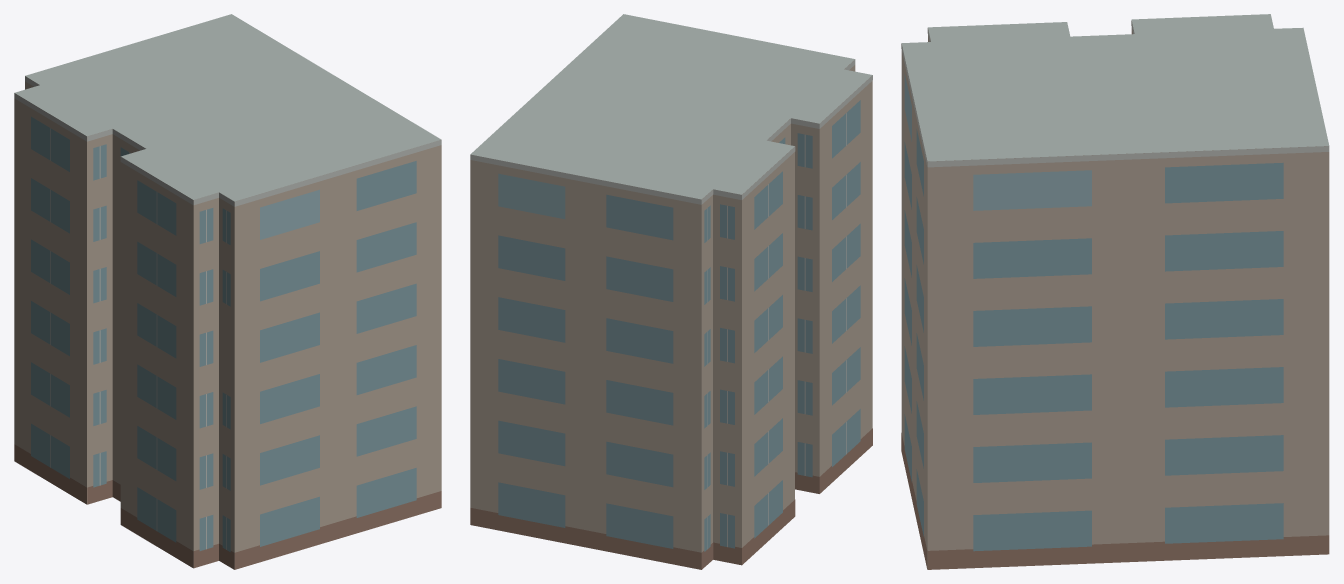
The model's file is survey-upis-32750113.glb.
3 renders of one model, left to right at view 1: azimuth 30°, elevation 25°; view 2: azimuth 150°, elevation 25°; view 3: azimuth 270°, elevation 25°, orthographic. The views are drawn at different scales.
Visible parts, largest first — view 1: survey-upis-32750113.tmp; view 2: survey-upis-32750113.tmp; view 3: survey-upis-32750113.tmp.
Part boxes in pixels (left/top/right/bottom): survey-upis-32750113.tmp: left=14, top=14, right=441, bottom=569; survey-upis-32750113.tmp: left=470, top=14, right=872, bottom=569; survey-upis-32750113.tmp: left=901, top=14, right=1329, bottom=569.
Bounding box in the file's own units: 13.02 × 16.8 × 15.96.
